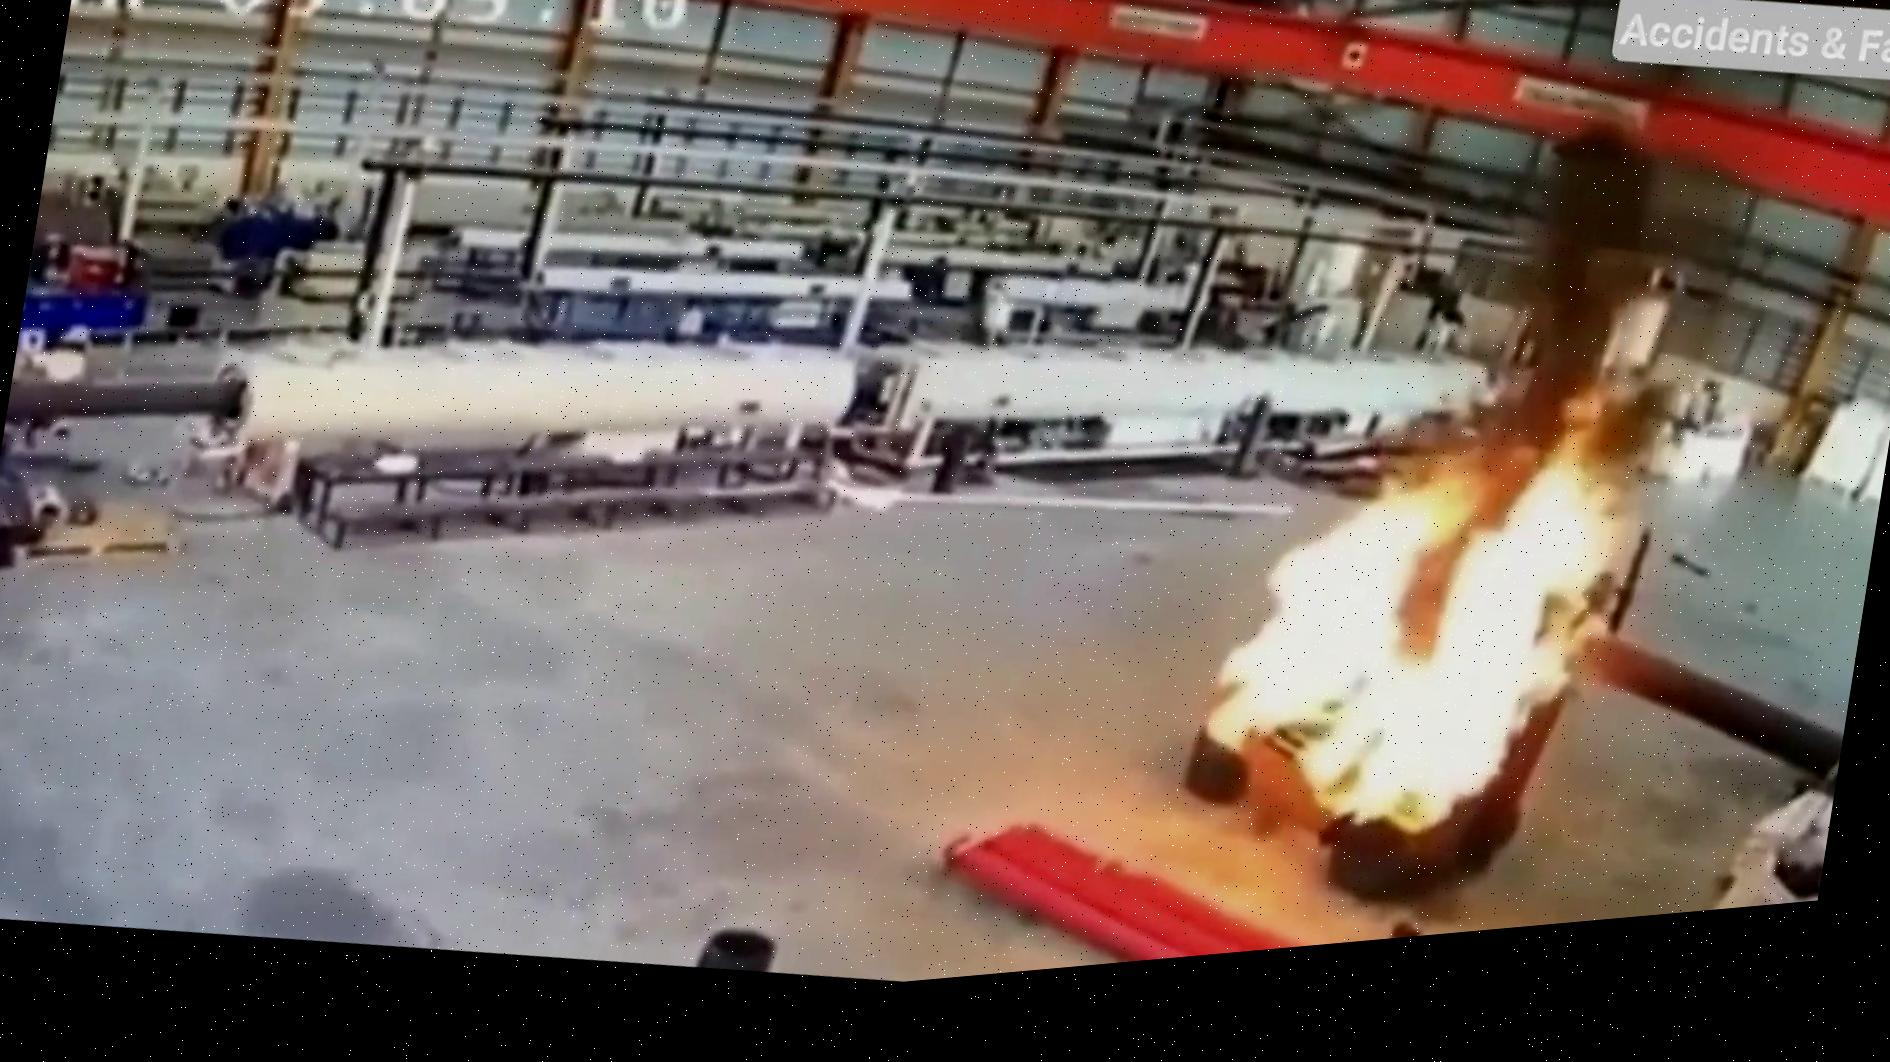fire: (1112, 106, 1700, 944)
